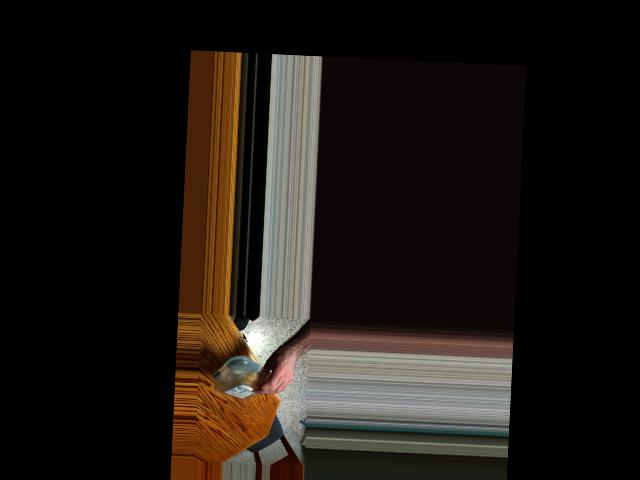cheese: (215, 360, 280, 398)
